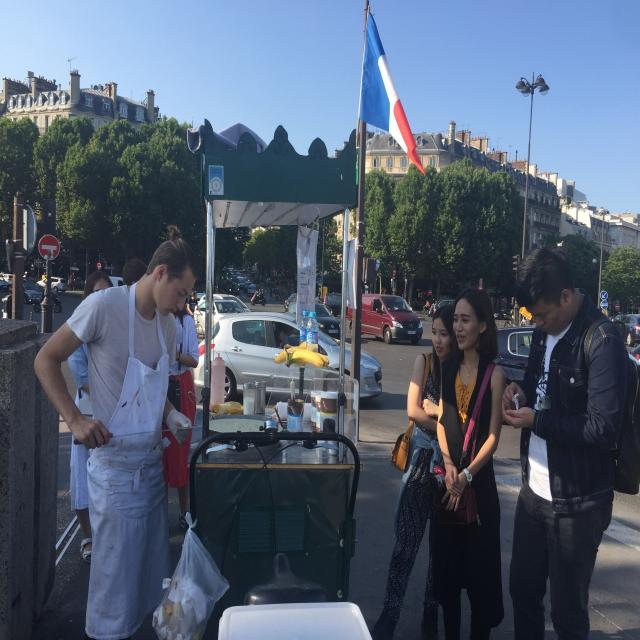body: (29, 219, 204, 640), (497, 235, 640, 640), (367, 301, 465, 640), (430, 284, 510, 640), (68, 269, 115, 565), (161, 303, 200, 532), (587, 596, 640, 638), (122, 252, 147, 293), (274, 326, 300, 350), (187, 290, 203, 323), (282, 323, 300, 346), (281, 272, 296, 296), (64, 269, 76, 291), (250, 330, 264, 345), (41, 286, 50, 308), (387, 300, 401, 312), (224, 303, 236, 313), (607, 311, 616, 322), (268, 284, 274, 299), (315, 307, 324, 317), (256, 288, 262, 302), (510, 308, 516, 321), (213, 283, 220, 294), (317, 292, 323, 304), (424, 300, 430, 312), (430, 303, 436, 314), (258, 288, 263, 301), (276, 287, 280, 301), (417, 294, 422, 304), (264, 286, 266, 295), (257, 286, 260, 291), (273, 289, 276, 294)
